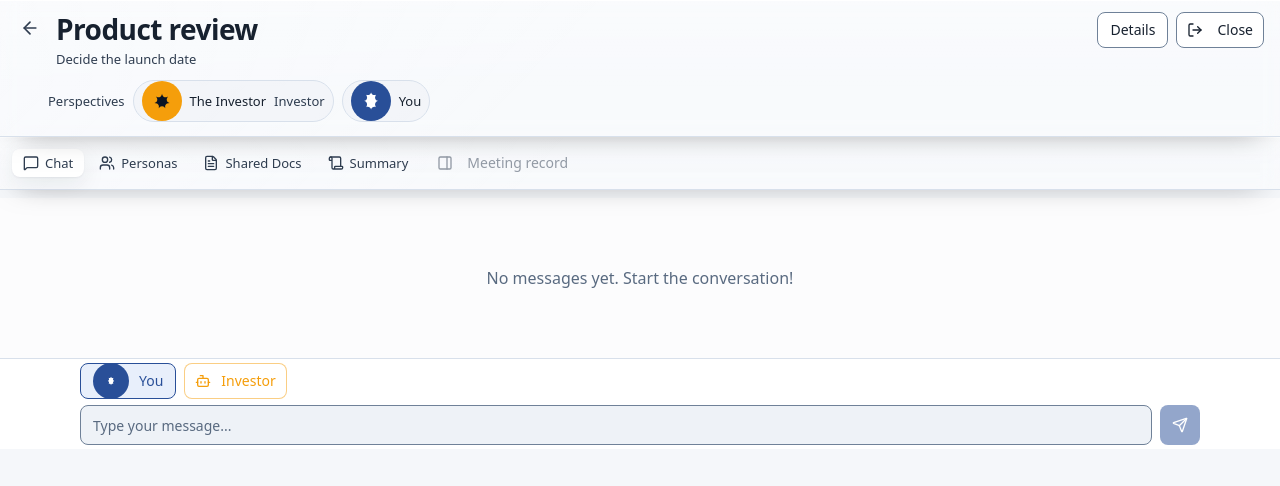
MeetingRoom › keeps the draft and names access loss without claiming a save
The image size is (1280, 486).
Type "Needs access" into the field with placeholder "Type your message..." at coordinates (616, 425), box [80,405,1152,445]
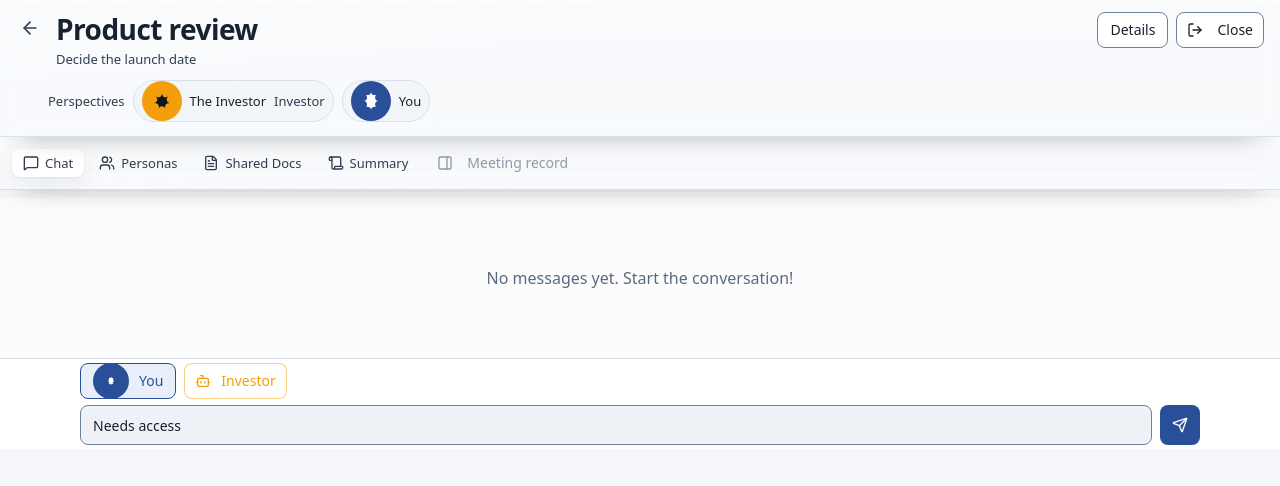
Click the button named "Send message" at coordinates (1180, 425), box [1160,405,1200,445]
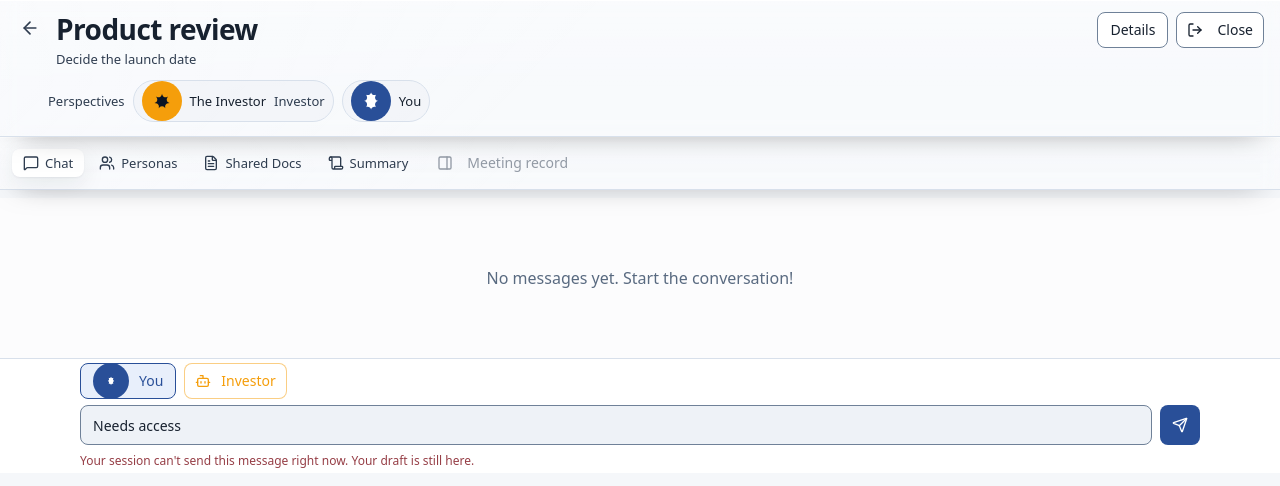
Result: the text "Your session can't send this message right now. Your draft is still here." is shown at [80,452,474,469]
